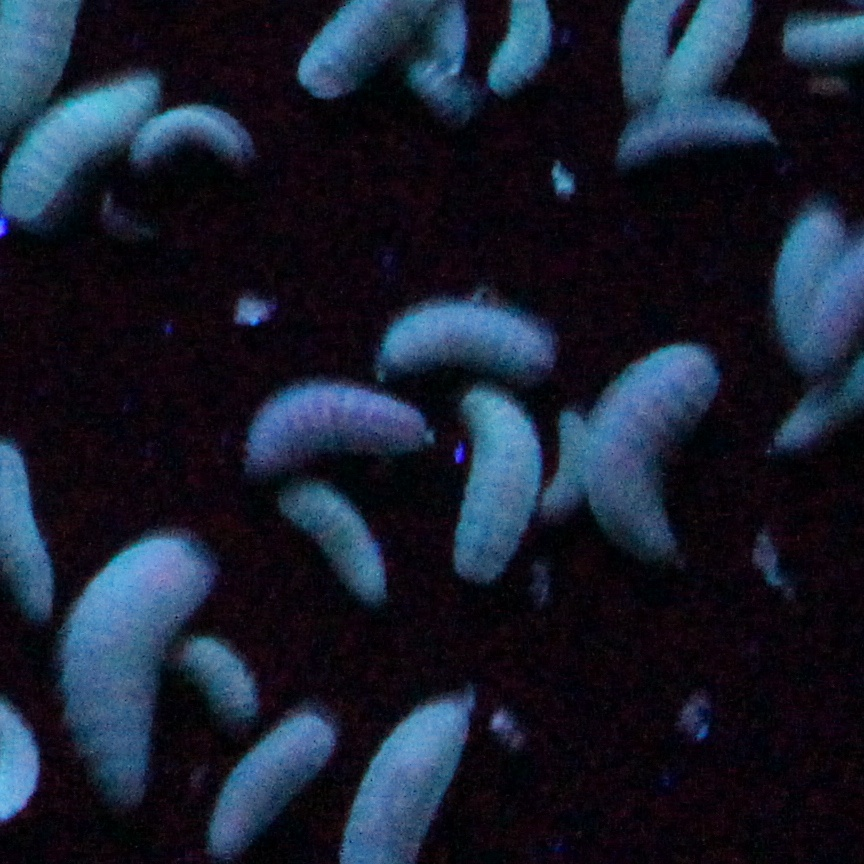larve: (67, 534, 216, 794), (585, 345, 720, 565), (0, 85, 145, 216), (209, 712, 340, 852), (242, 385, 436, 472), (458, 390, 536, 583), (378, 301, 560, 379), (282, 479, 389, 599), (609, 96, 774, 165), (776, 210, 847, 370), (136, 105, 251, 163), (182, 641, 262, 716), (549, 414, 591, 514), (411, 63, 482, 112)
